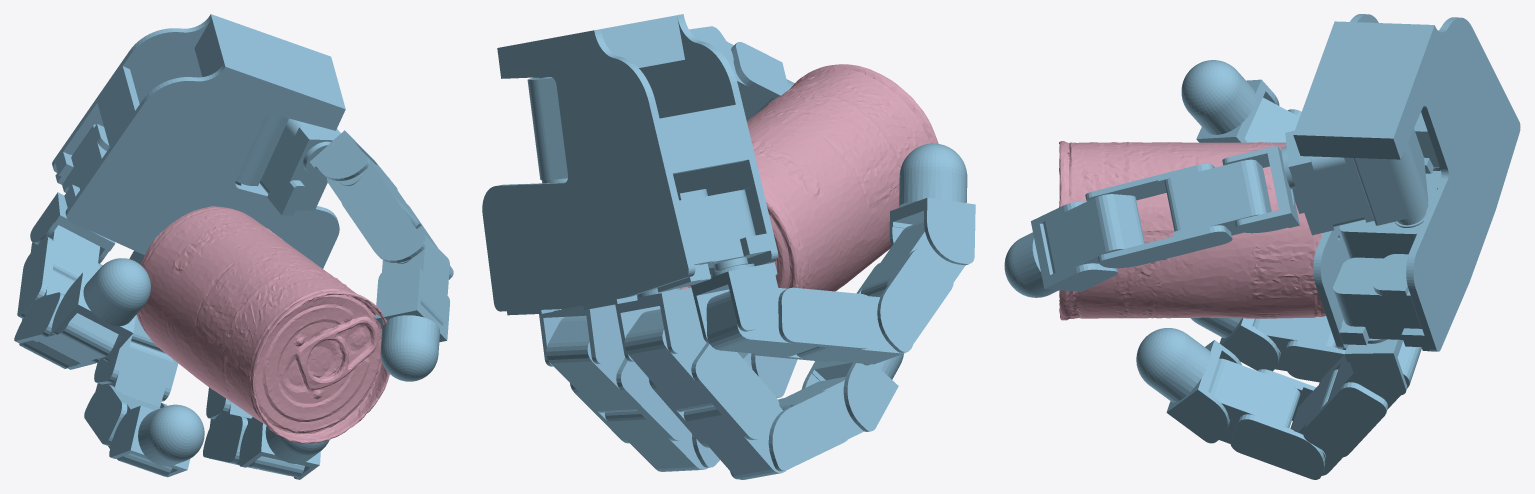
3 views of the same model, side by side, from view 1: azimuth 30°, elevation 25°; view 2: azimuth 150°, elevation 25°; view 3: azimuth 270°, elevation 25° (orthographic). The views are drawn at different scales.
Parts seen in each view (by area): view 1: world, tomato_soup_can.stl; view 2: world, tomato_soup_can.stl; view 3: world, tomato_soup_can.stl.
Boxes of the visible parts, x1=… form: world: x1=14, y1=14, x2=453, y2=479; tomato_soup_can.stl: x1=136, y1=206, x2=389, y2=443; world: x1=482, y1=14, x2=975, y2=479; tomato_soup_can.stl: x1=681, y1=64, x2=938, y2=291; world: x1=1004, y1=14, x2=1520, y2=479; tomato_soup_can.stl: x1=1059, y1=141, x2=1325, y2=320.
Bounding box in the file's own units: 0.1653 × 0.1895 × 0.1941.
